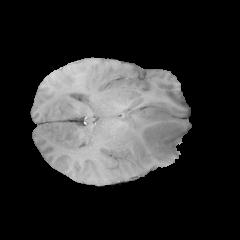glioma: (121, 105, 189, 166)
